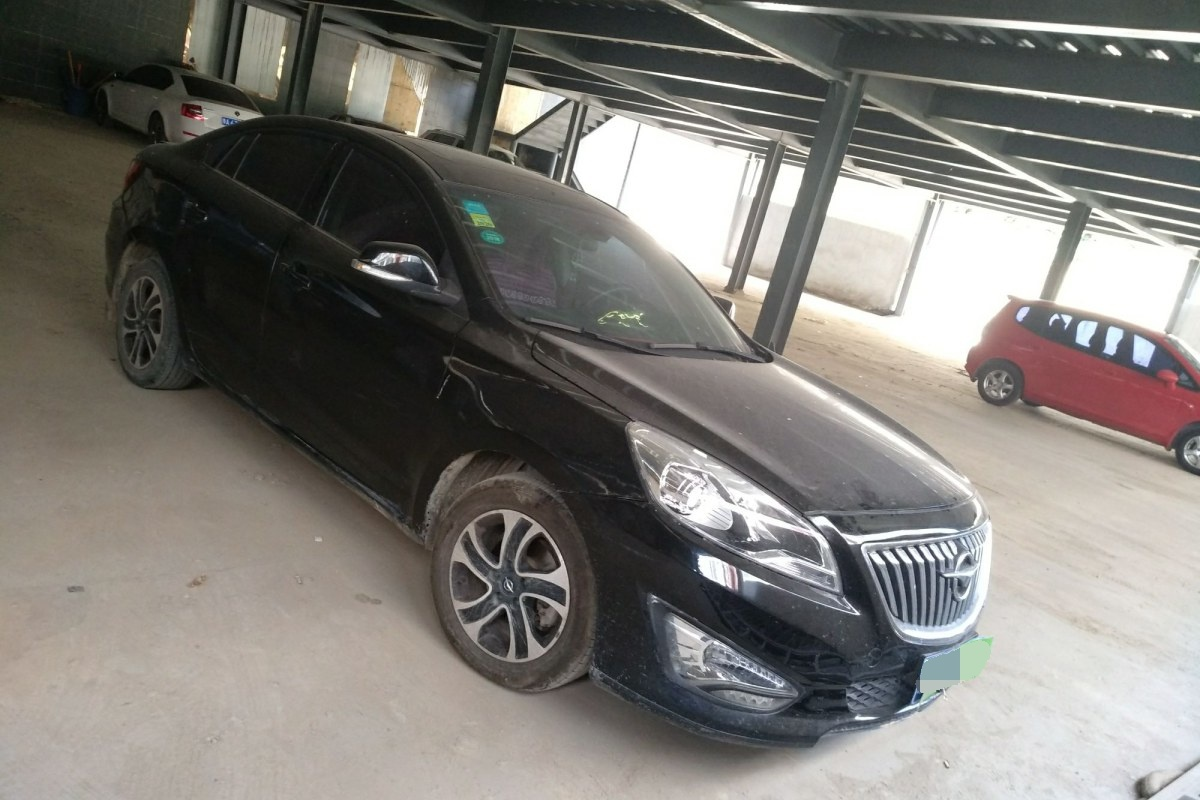family sedan: (101, 68, 997, 761)
